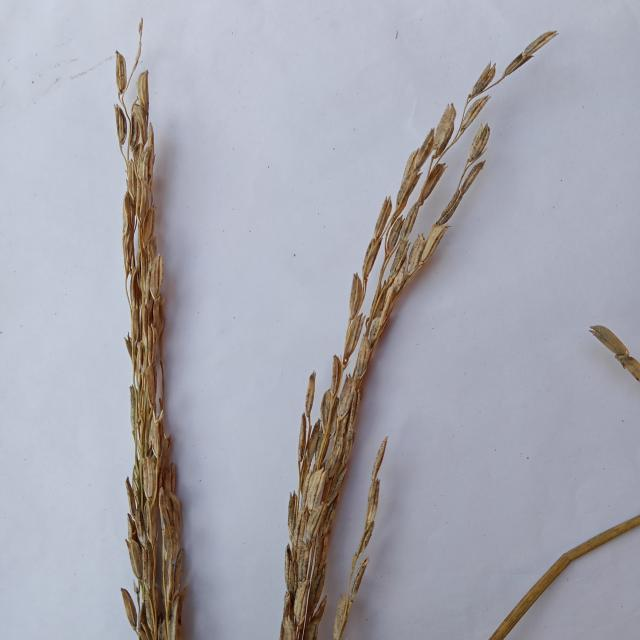Neck_Blast: (279, 26, 552, 640), (111, 36, 190, 636)
